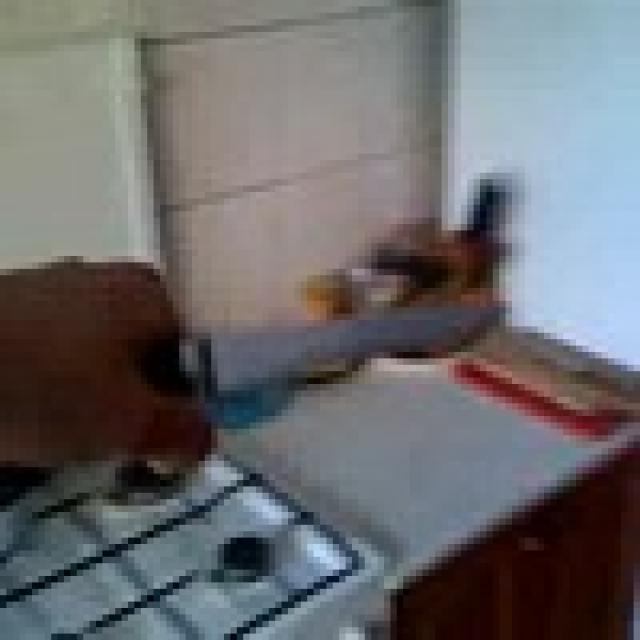Knife: (166, 288, 518, 416)
